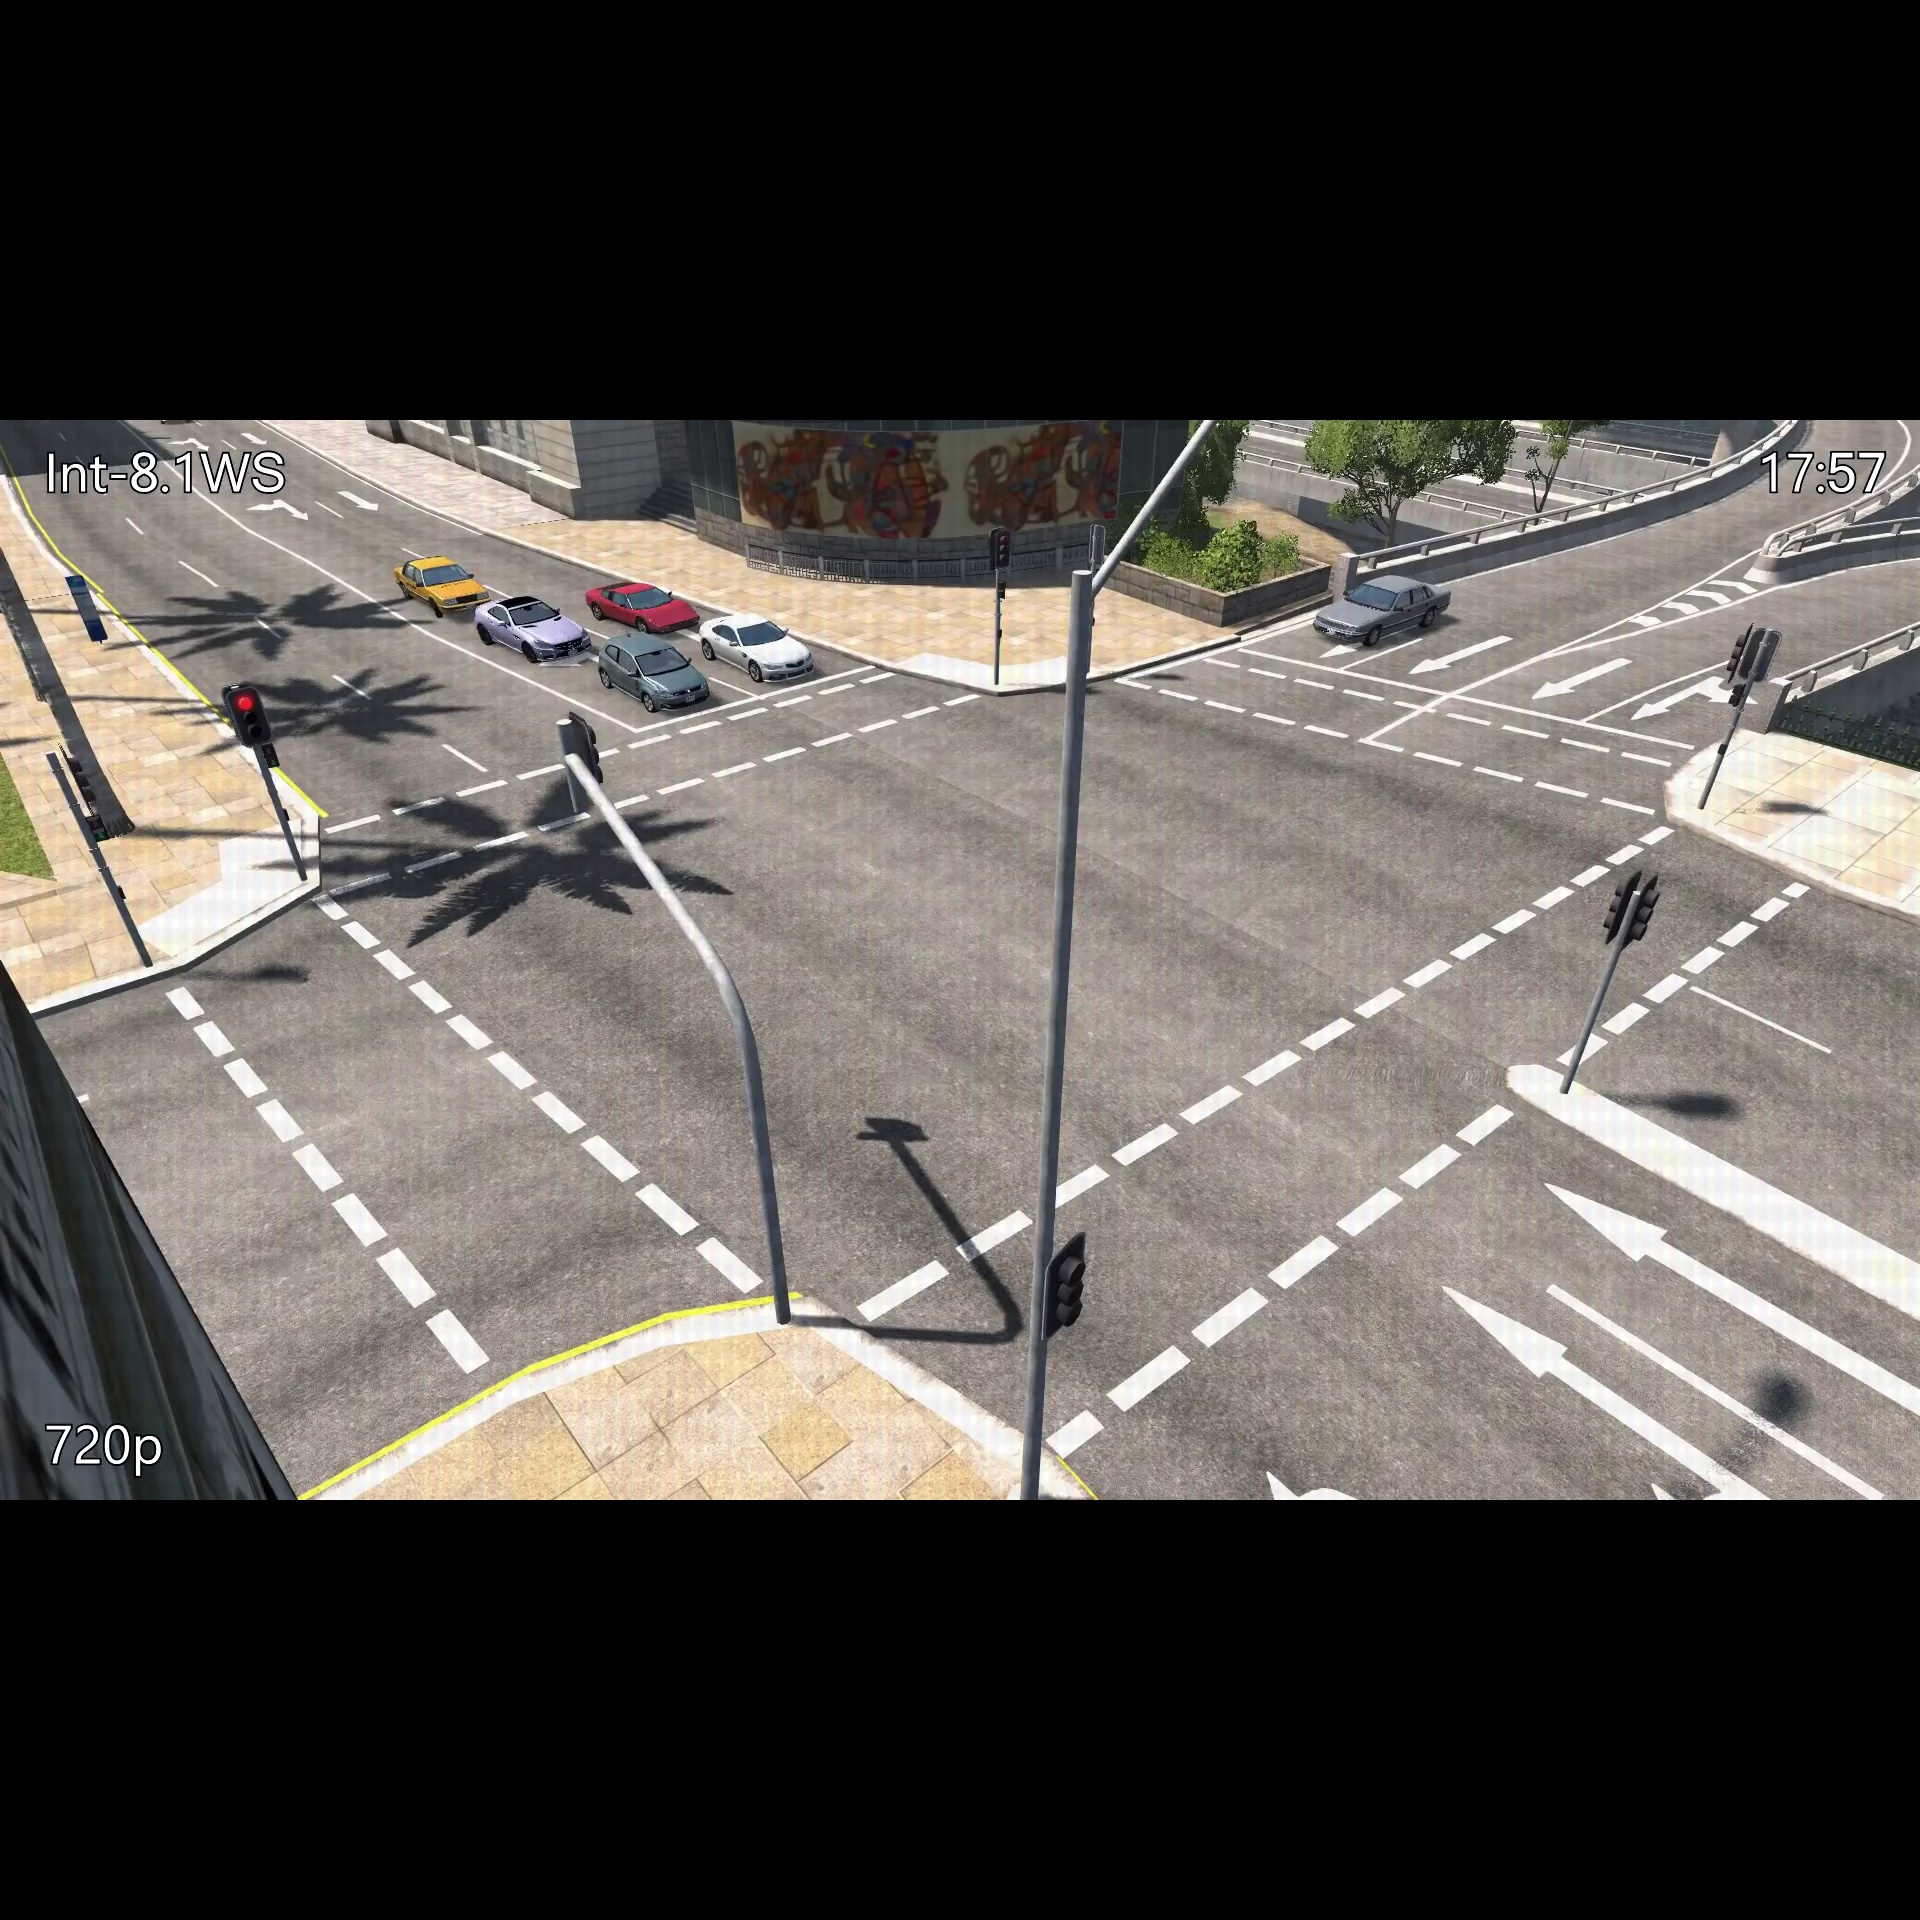vehicle: (1310, 571, 1459, 659), (594, 629, 714, 719), (695, 607, 818, 693), (469, 589, 594, 668), (575, 571, 707, 636), (389, 545, 489, 615)
